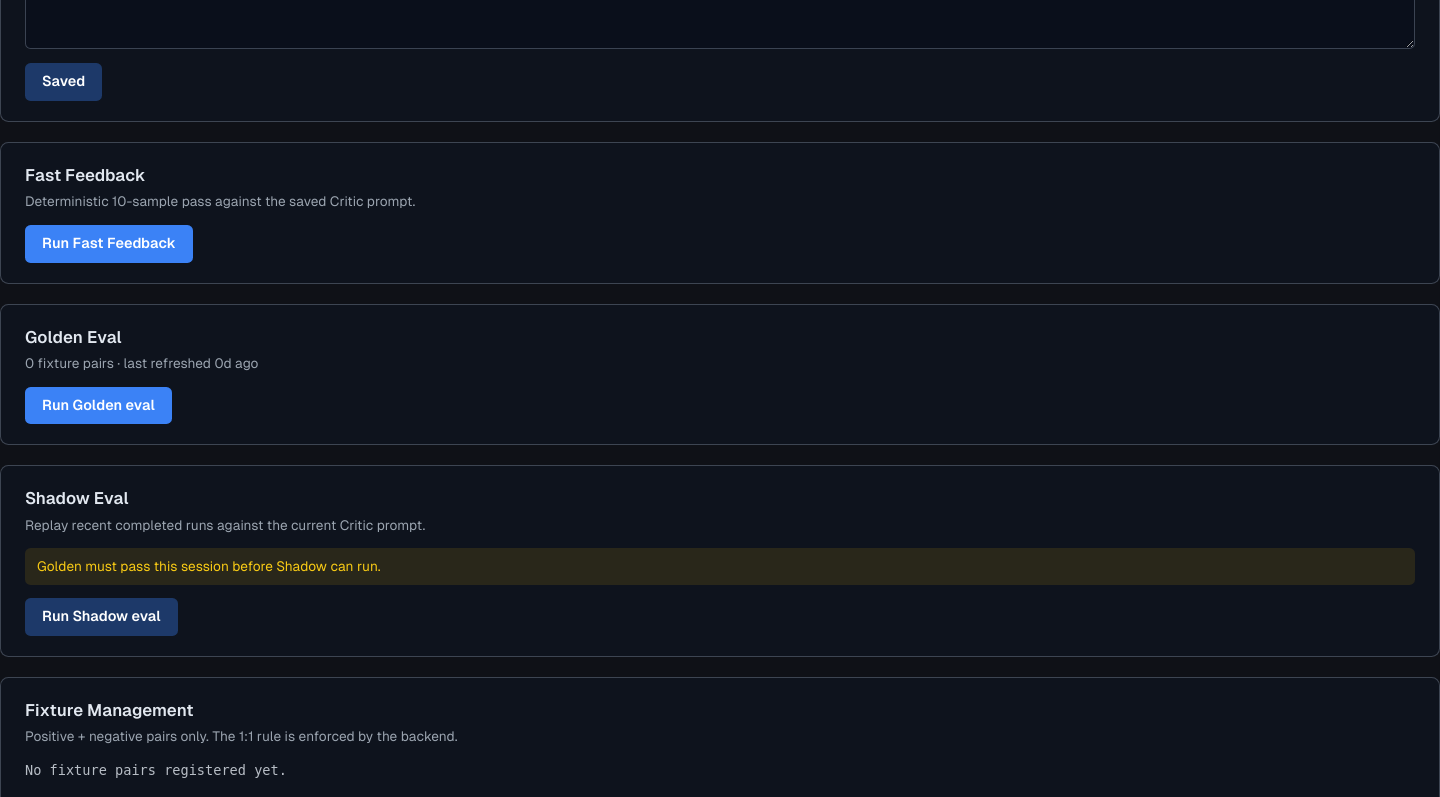
Test case: TuningShell › leaves Shadow disabled when Golden reports false rejections
The width and height of the screenshot is (1440, 797).
(page scrolled)
Click the button "Run Golden eval" at (98, 406), box [25,386,172,424]
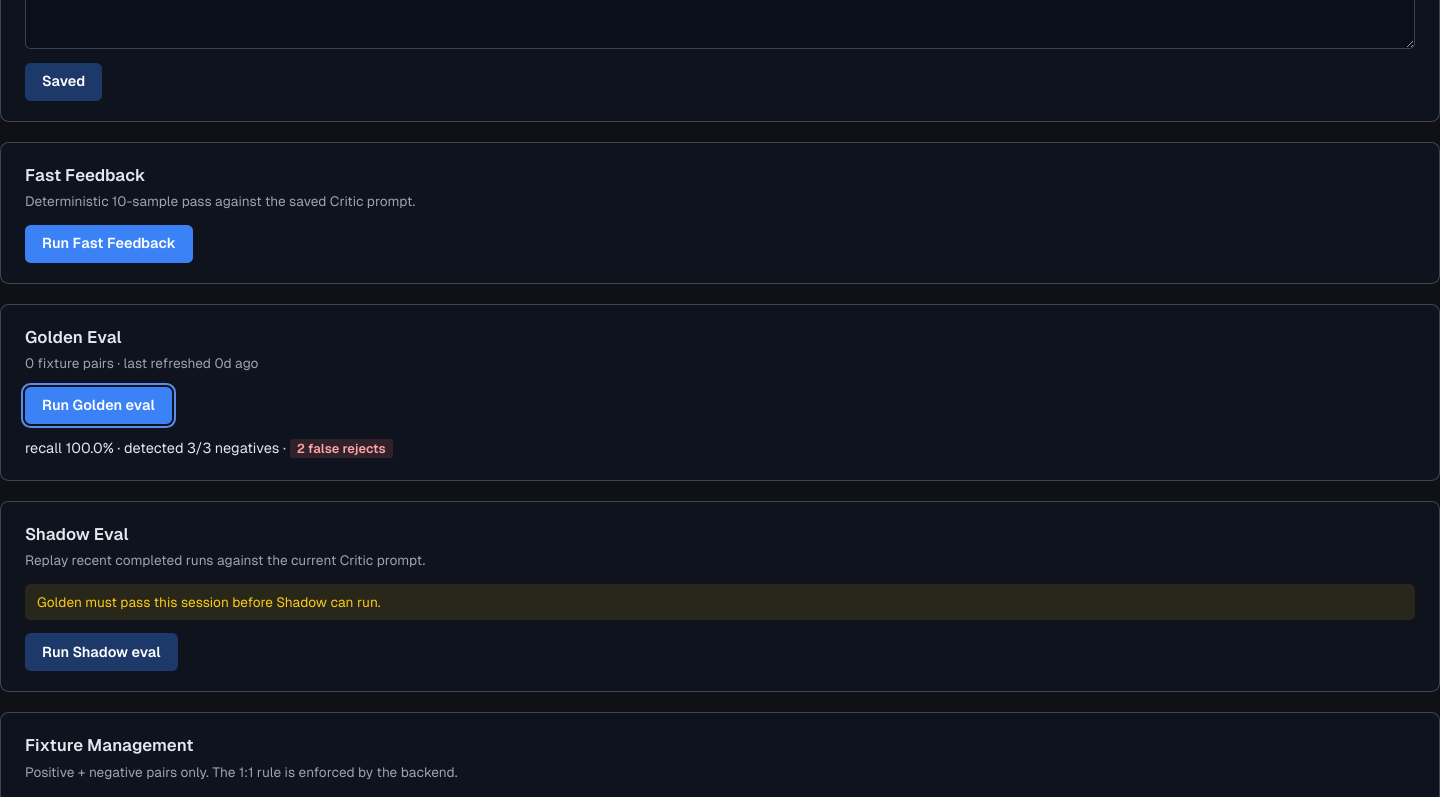
Expected: the button "Run Shadow eval" is disabled, [25,634,178,672]
Now the text "2 false rejects" is shown, box [290,440,393,458]
